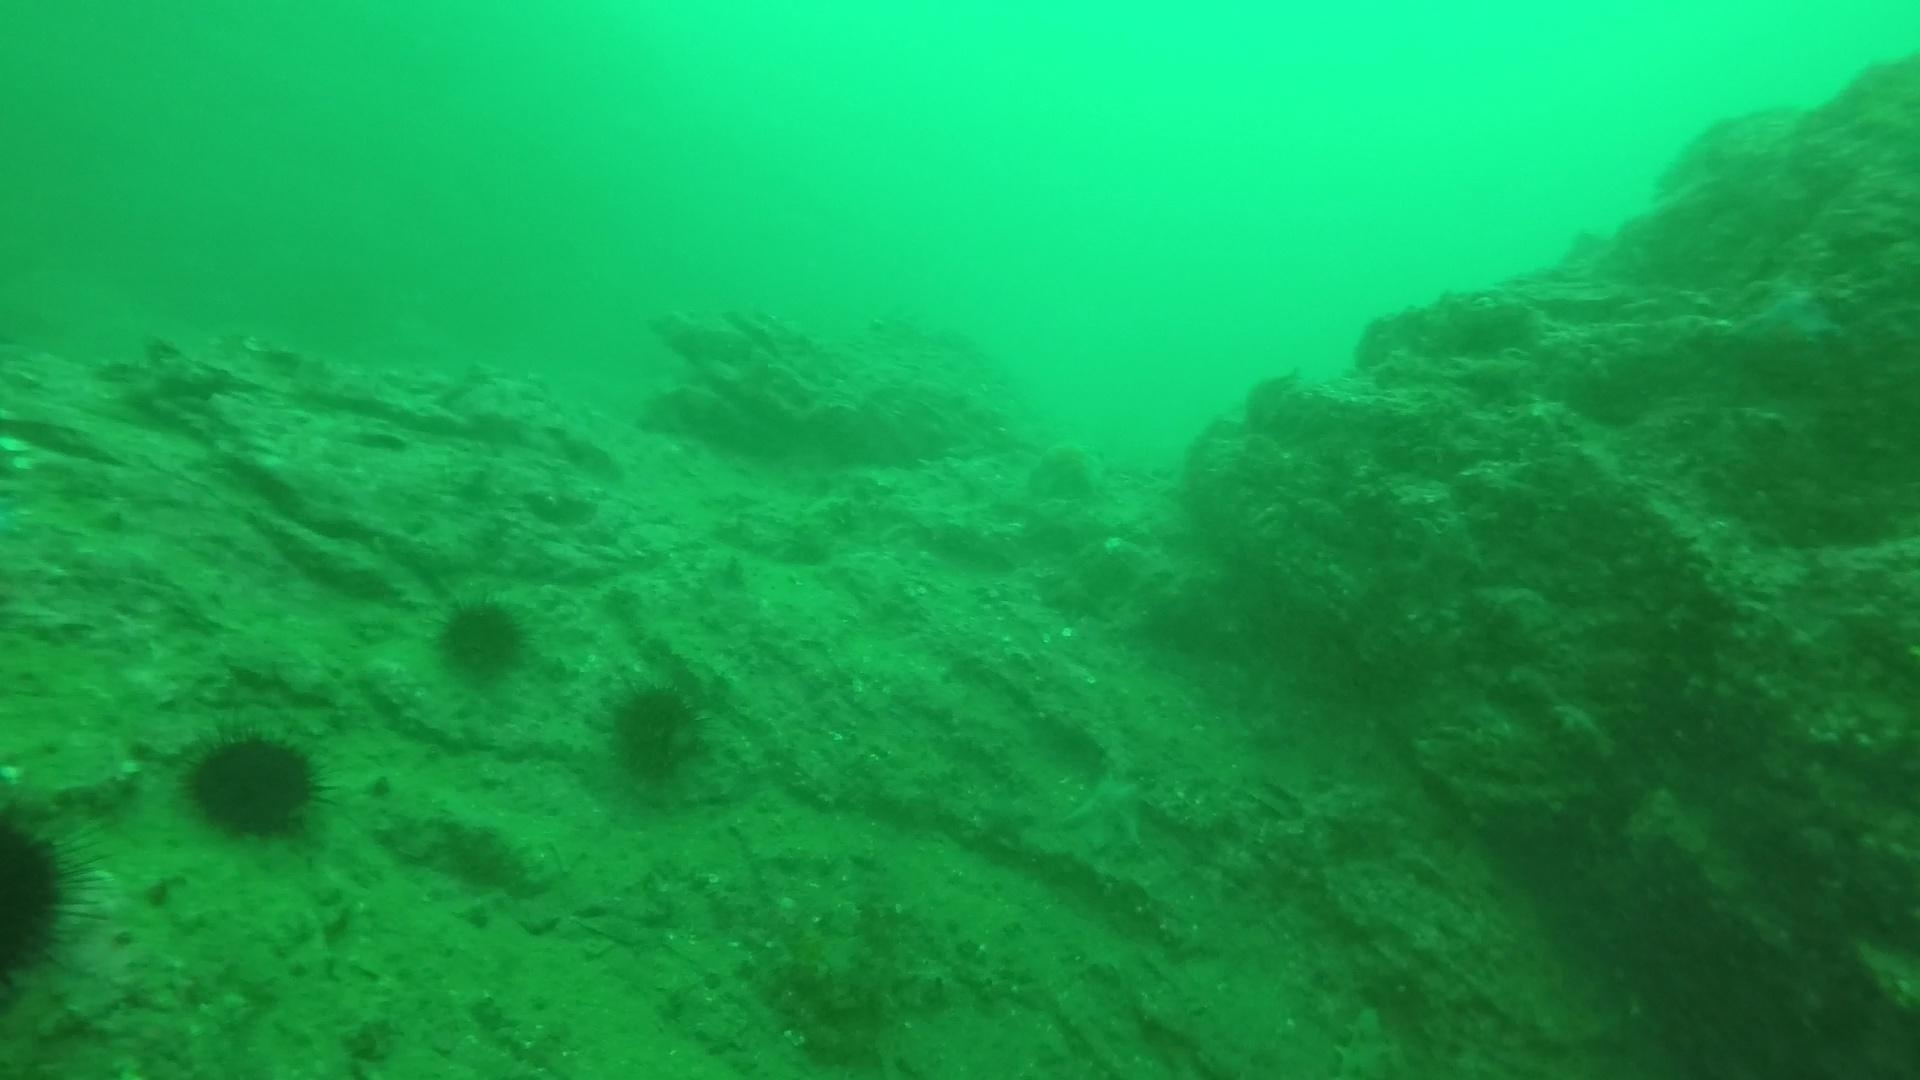echinus: (175, 720, 330, 847), (0, 799, 100, 993), (597, 673, 713, 791), (429, 589, 535, 688)
starfish: (1052, 760, 1160, 858), (1726, 268, 1853, 352)
